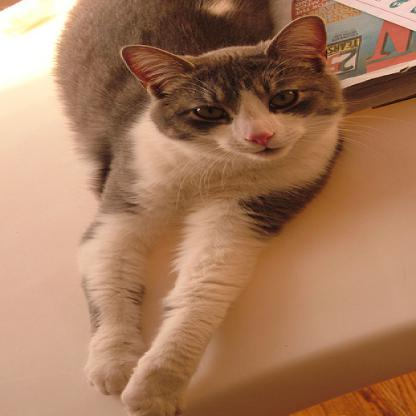cat: (49, 3, 355, 415)
